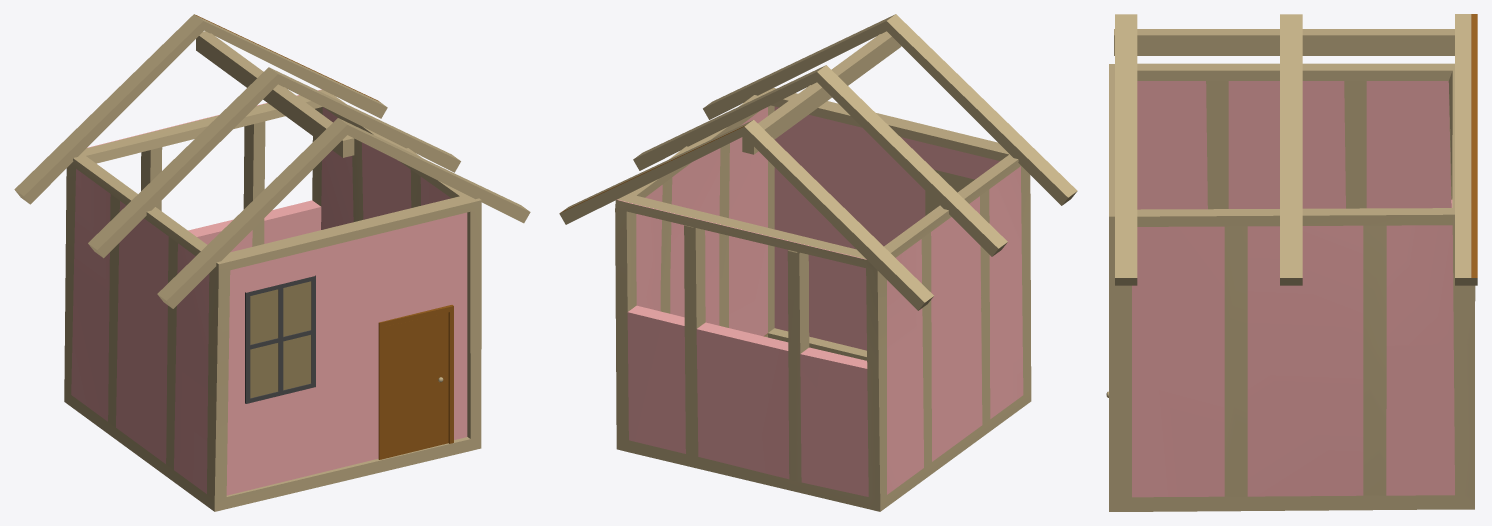
The model's file is SM_HouseBarriers.FBX.
3 views of the same model, side by side, from view 1: azimuth 30°, elevation 25°; view 2: azimuth 150°, elevation 25°; view 3: azimuth 270°, elevation 25° (orthographic). The views are drawn at different scales.
Parts seen in each view (by area): view 1: HouseFrame002; view 2: HouseFrame002; view 3: HouseFrame002.
Boxes of the visible parts, x1,y1,x2,y2 form: HouseFrame002: (14,14,530,511); HouseFrame002: (559,14,1077,511); HouseFrame002: (1106,14,1477,511).
Bounding box in the file's own units: 206 × 191 × 152.
